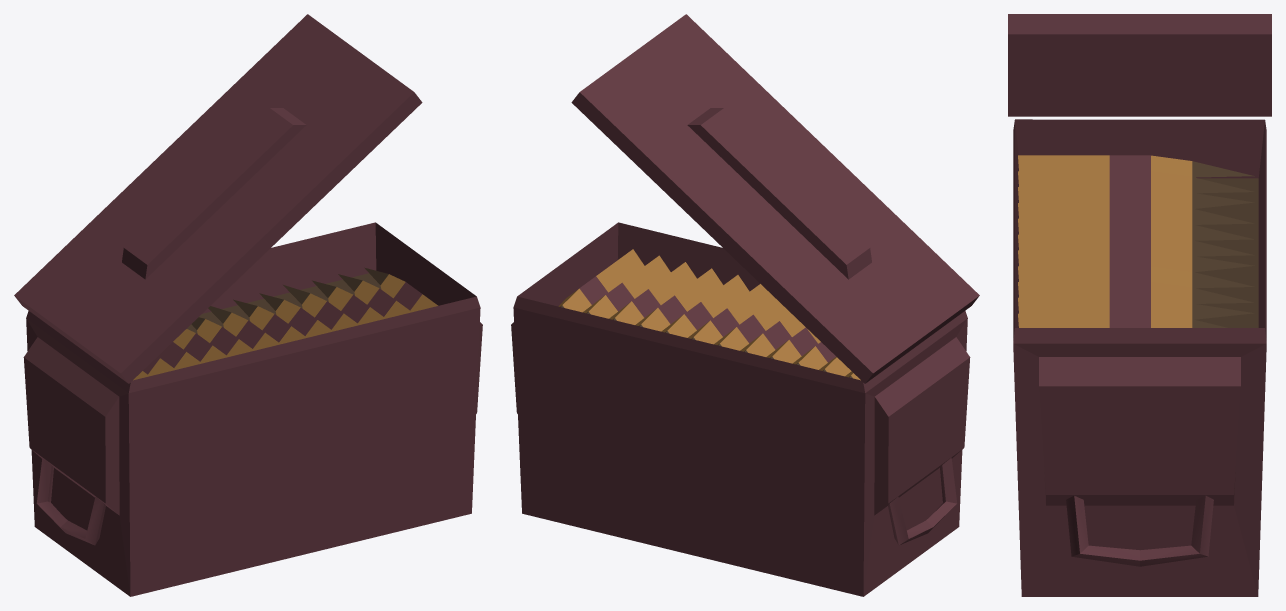
File: weapons-ammo-box-bullets-open.glb
The picture shows the model from 3 angles, left to right: view 1: azimuth 30°, elevation 25°; view 2: azimuth 150°, elevation 25°; view 3: azimuth 270°, elevation 25°; orthographic projection. The views are drawn at different scales.
Visible parts, largest first — view 1: ammo-box-bullets-open; view 2: ammo-box-bullets-open; view 3: ammo-box-bullets-open.
Boxes of the visible parts, x1,y1,x2,y2 form: ammo-box-bullets-open: (14,14,482,596); ammo-box-bullets-open: (511,14,979,596); ammo-box-bullets-open: (1008,14,1271,596).
Bounding box in the file's own units: 0.3162 × 0.3456 × 0.1515.
